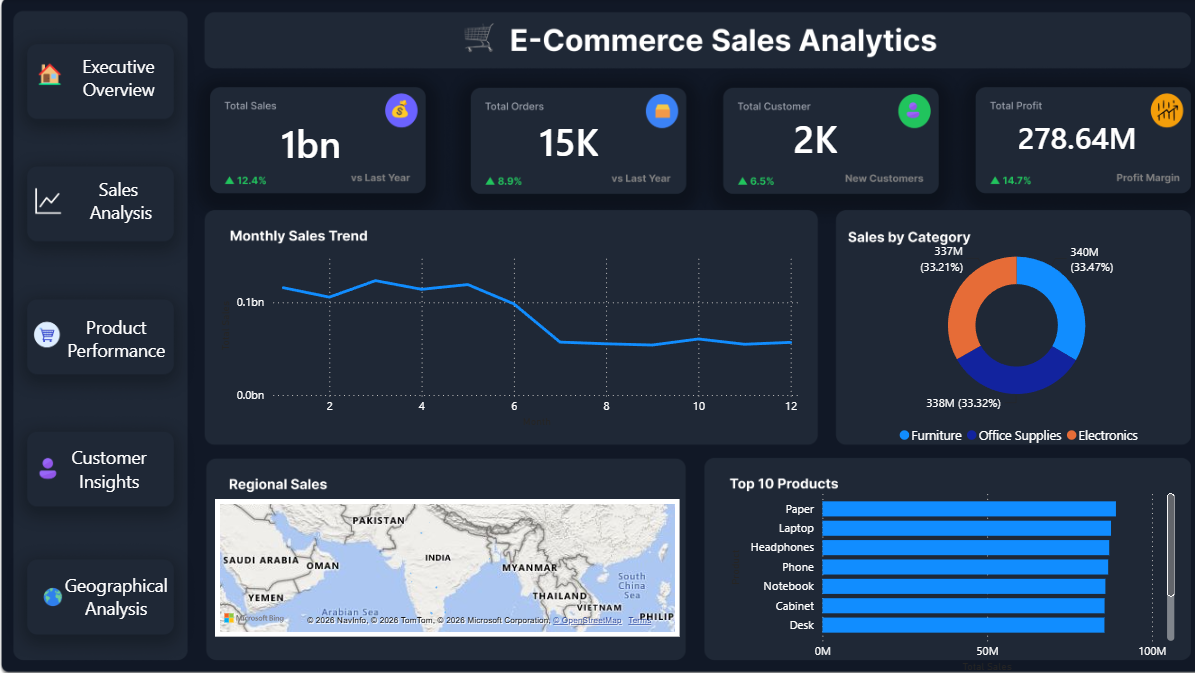

The dashboard page shown, as its layout file describes it:
{"tool":"powerbi","page":{"name":"Executive Overview","canvas":[1280,720],"ordinal":0},"visuals":[{"type":"cardVisual","fields":{"Data":["Measures (3).Total Sales"]},"box":[267.2,111.3,127.2,81.1],"z":0},{"type":"cardVisual","fields":{"Data":["Measures (3).Total Profit"]},"box":[1041.9,105,203.6,81.1],"z":1000},{"type":"cardVisual","fields":{"Data":["Measures (3).Total Customers"]},"box":[809.6,106.6,112.9,81.1],"z":2000},{"type":"cardVisual","fields":{"Data":["Measures (3).Total Orders"]},"box":[540.8,109.8,127.2,81.1],"z":3000},{"type":"lineChart","fields":{"Category":["Dataset.Month"],"Y":["Measures (3).Total Sales"]},"box":[229,259.3,625.1,200.4],"z":4000},{"type":"donutChart","fields":{"Category":["Dataset.Category"],"Y":["Measures (3).Total Sales"]},"box":[940.8,240.8,277.5,242.5],"z":5000},{"type":"filledMap","fields":{"Category":["Dataset.City"]},"box":[228.6,531.4,492.9,145.7],"z":6000},{"type":"clusteredBarChart","fields":{"Category":["Dataset.Product"],"Y":["Measures (3).Total Sales"]},"box":[770,512.9,481.4,207.1],"z":7000},{"type":"textbox","box":[40,54,130,72],"z":9000},{"type":"textbox","box":[63.8,185,131.2,65],"z":10000},{"type":"textbox","box":[63.8,331.2,121.2,68.8],"z":11000},{"type":"textbox","box":[63.8,470,106.2,71.2],"z":12000},{"type":"textbox","box":[63.8,603.8,121.2,73.8],"z":13000},{"type":"actionButton","box":[39.8,54.1,130.4,71.6],"z":14000},{"type":"actionButton","box":[28.6,178.1,141.6,71.6],"z":15000},{"type":"actionButton","box":[28.6,322.9,141.6,68.4],"z":16000},{"type":"actionButton","box":[28.6,469.2,141.6,62],"z":17000},{"type":"actionButton","box":[39.8,601.3,144.7,76.3],"z":18000}]}

Visuals, with their boxes on the page's 1280x720 design canvas (x1, y1, x2, y2). These are canvas units, not pixel positions in the 1195x673 screenshot, which may show the page scaled, cropped or inside an application window:
cardVisual - Measures (3).Total Sales: Rect(267, 111, 394, 192)
cardVisual - Measures (3).Total Profit: Rect(1042, 105, 1246, 186)
cardVisual - Measures (3).Total Customers: Rect(810, 107, 922, 188)
cardVisual - Measures (3).Total Orders: Rect(541, 110, 668, 191)
lineChart - Dataset.Month x Measures (3).Total Sales: Rect(229, 259, 854, 460)
donutChart - Dataset.Category x Measures (3).Total Sales: Rect(941, 241, 1218, 483)
filledMap - Dataset.City: Rect(229, 531, 722, 677)
clusteredBarChart - Dataset.Product x Measures (3).Total Sales: Rect(770, 513, 1251, 720)
textbox: Rect(40, 54, 170, 126)
textbox: Rect(64, 185, 195, 250)
textbox: Rect(64, 331, 185, 400)
textbox: Rect(64, 470, 170, 541)
textbox: Rect(64, 604, 185, 678)
actionButton: Rect(40, 54, 170, 126)
actionButton: Rect(29, 178, 170, 250)
actionButton: Rect(29, 323, 170, 391)
actionButton: Rect(29, 469, 170, 531)
actionButton: Rect(40, 601, 184, 678)
